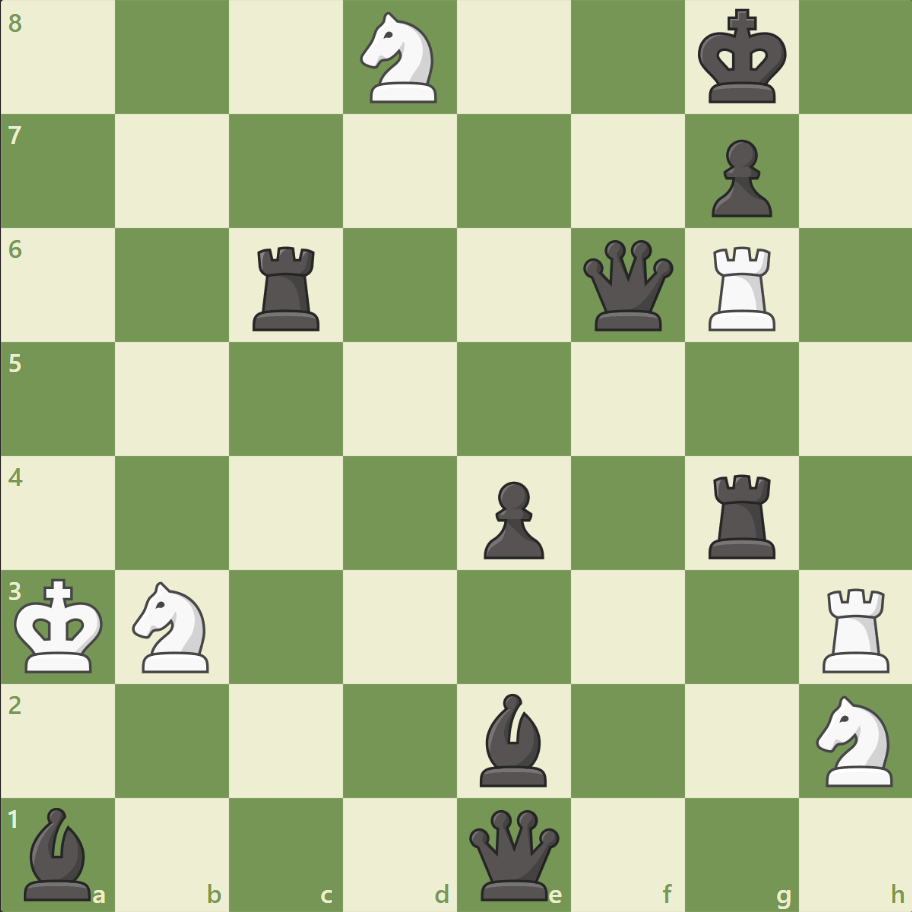K: (11, 571, 111, 679)
N: (351, 7, 449, 110), (124, 575, 222, 677), (806, 688, 903, 791)
R: (700, 239, 783, 336), (814, 579, 897, 676)
b: (471, 687, 555, 790), (17, 801, 101, 904)
k: (692, 4, 792, 112)
p: (701, 132, 776, 223), (474, 473, 549, 564)
q: (578, 236, 677, 335), (464, 804, 563, 903)
r: (246, 239, 329, 336), (700, 466, 783, 563)
